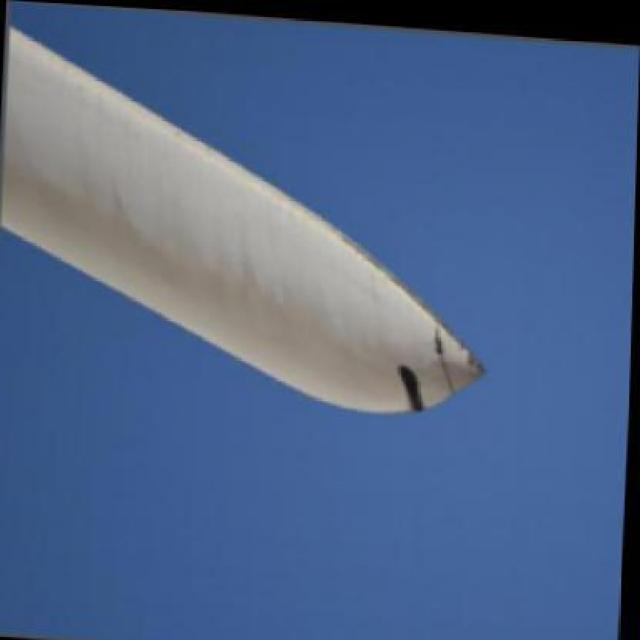Crack: (434, 326, 454, 395)
